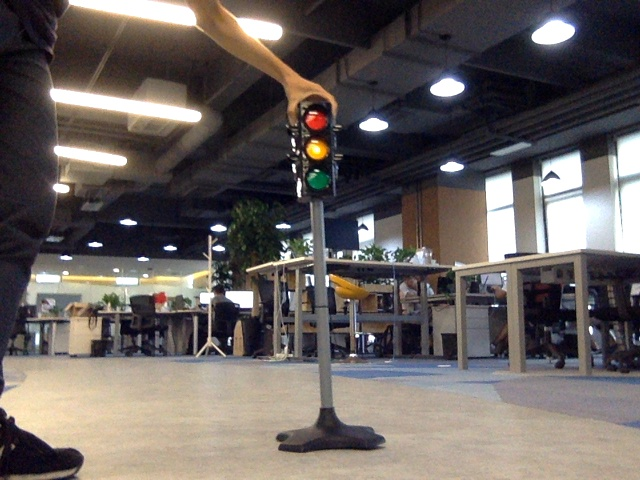yellow: (295, 111, 334, 196)
